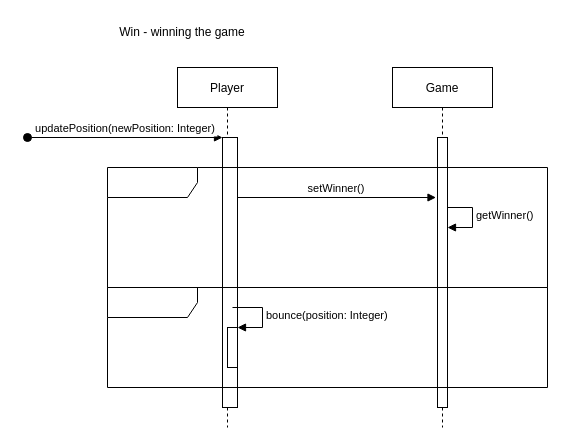
The diagram is 565 pixels wide and 445 high, and some of its shapes have lost their labels. The shapes that lost their labels are listed below. From the top down, each one's centre as x and y in pixels, then its label:
At (327,227): "position==63".
At (327,337): "position>63".
